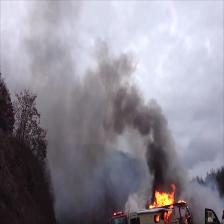fire: (153, 187, 176, 204)
smoke: (91, 72, 147, 127), (138, 133, 175, 175)
